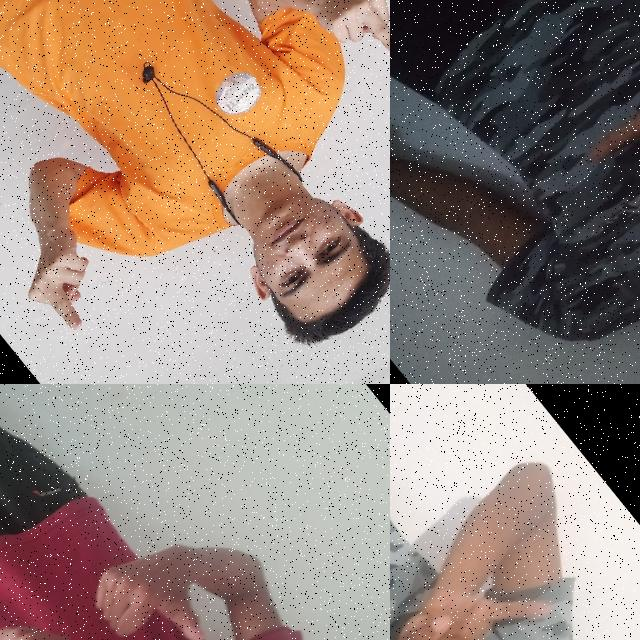Corna: (390, 509, 589, 640)
Middle Finger: (0, 200, 137, 347), (291, 0, 390, 92)
Moutza: (557, 0, 640, 258)
Thumbs Up: (71, 523, 232, 640)
